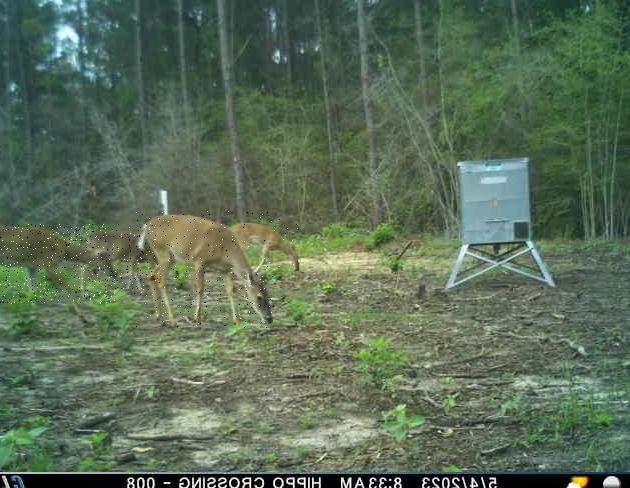Deer: (136, 211, 274, 328), (0, 224, 117, 304), (78, 225, 158, 295), (228, 219, 299, 272)
